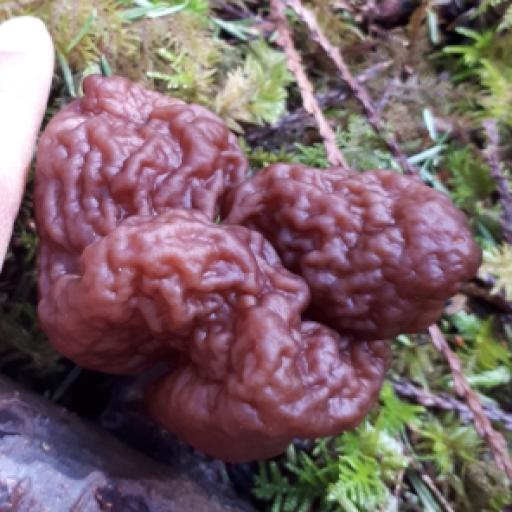mushroom: (0, 130, 413, 512), (208, 86, 504, 381), (0, 32, 264, 294)
